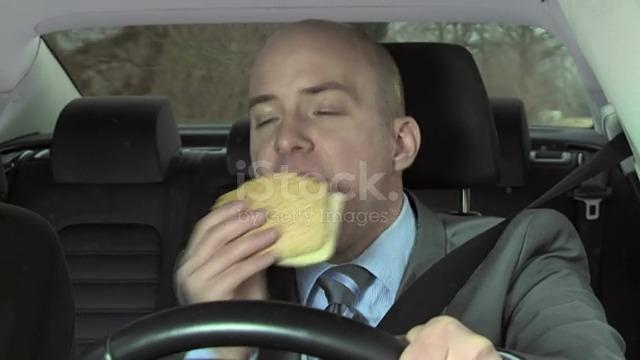Eating: (165, 26, 434, 313)
